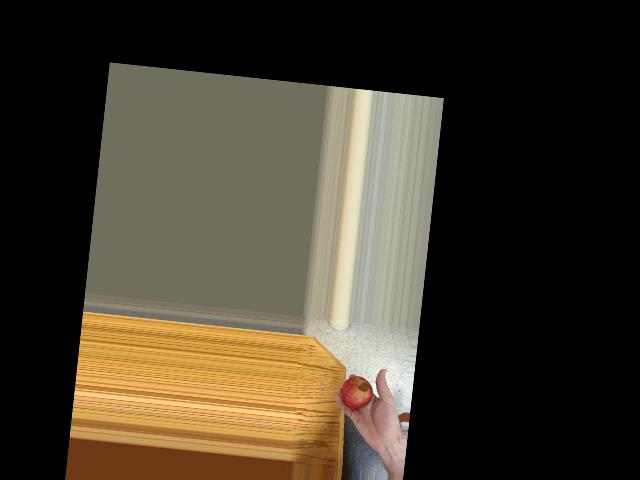apple: (338, 372, 375, 416)
